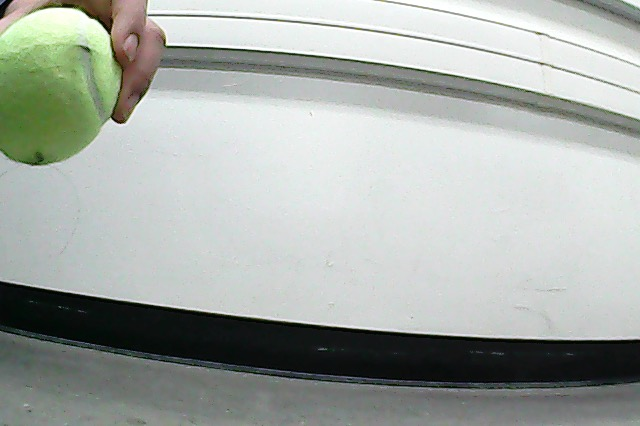ball: (1, 8, 123, 166)
